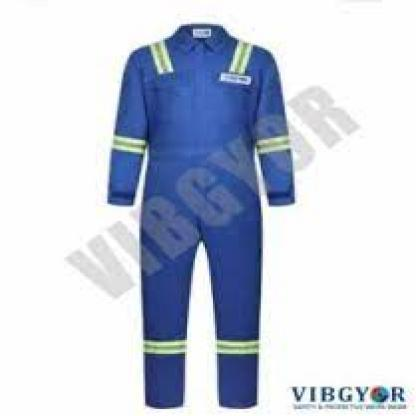vest: (107, 35, 298, 372)
